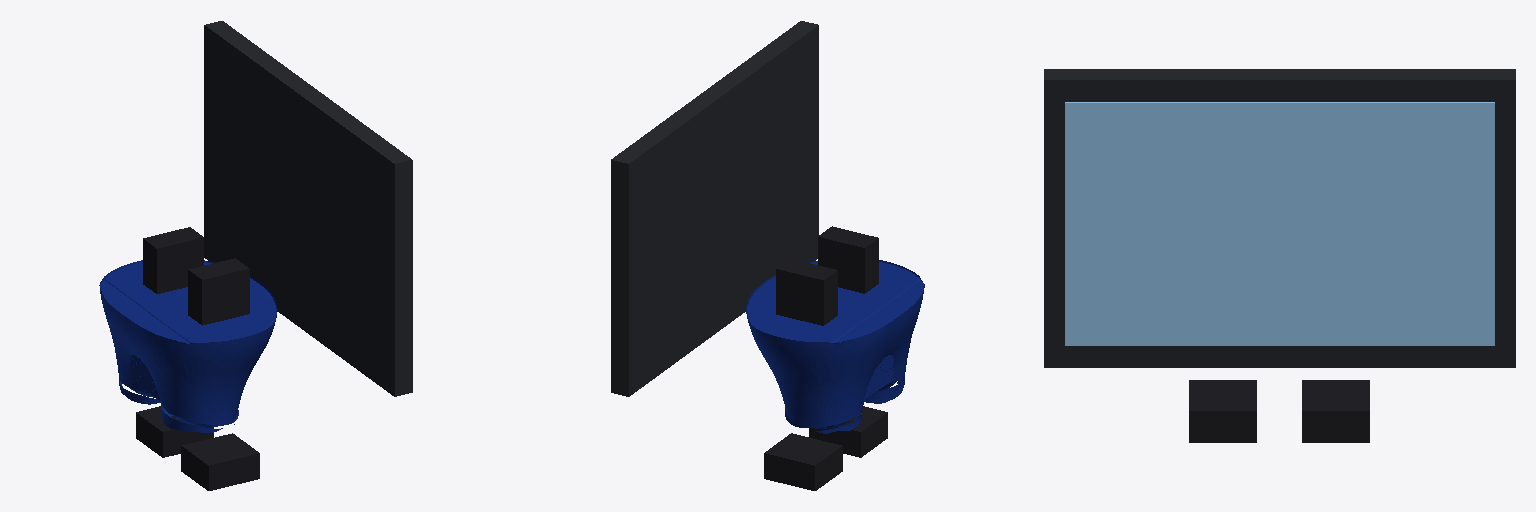
The robot description file, URDF, robot "haetburi":
<?xml version="1.0"?>
<!-- Haetburi biped (v17_scs0009) - generated by tools/build_model.py, do not edit by hand -->
<robot name="haetburi">
  <mujoco>
    <compiler meshdir="." balanceinertia="true" discardvisual="false" strippath="false" fusestatic="false"/>
  </mujoco>
  <material name="display"><color rgba="0.18 0.19 0.21 1"/></material>
  <material name="screen"><color rgba="0.62 0.80 0.95 1"/></material>
  <material name="shell"><color rgba="0.106 0.216 0.541 1"/></material>
  <material name="motor"><color rgba="0.15 0.15 0.17 1"/></material>
  <material name="foot"><color rgba="0.25 0.25 0.28 1"/></material>
  <link name="world"/>
  <joint name="floating_base" type="floating">
    <parent link="world"/><child link="pelvis"/>
    <origin xyz="0 0 0" rpy="0 0 0"/>
  </joint>
  <link name="pelvis">
    <inertial>
      <origin xyz="-0.00855151 1.06189e-05 0.038465" rpy="0 0 0"/>
      <mass value="0.198675"/>
      <inertia ixx="0.000111783" ixy="3.29154e-07" ixz="4.15114e-05" iyy="0.000162064" iyz="3.13942e-07" izz="0.000118874"/>
    </inertial>
    <visual><origin xyz="0 0 0" rpy="0 0 0"/><geometry><mesh filename="meshes/pelvis.stl"/></geometry><material name="shell"/></visual>
    <visual><origin xyz="0.00710197 0.0182963 0.047325" rpy="0 0 0"/><geometry><box size="0.0232 0.0121 0.02525"/></geometry><material name="motor"/></visual>
    <visual><origin xyz="0.00809803 -0.0185221 0.047325" rpy="0 0 0"/><geometry><box size="0.0232 0.0121 0.02525"/></geometry><material name="motor"/></visual>
    <collision><origin xyz="0.0055805 -0.000109329 0.0156145" rpy="0 0 0"/><geometry><box size="0.0669075 0.0888493 0.0468509"/></geometry></collision>
  </link>
  <link name="torso">
    <inertial>
      <origin xyz="0.016319 7.72691e-05 0.0965368" rpy="0 0 0"/>
      <mass value="0.901556"/>
      <inertia ixx="0.00825268" ixy="-2.39545e-05" ixz="0.00150206" iyy="0.00830177" iyz="-2.31104e-05" izz="0.00450975"/>
    </inertial>
    <visual><origin xyz="0 0 0" rpy="0 0 0"/><geometry><mesh filename="meshes/torso.stl"/></geometry><material name="shell"/></visual>
    <visual><origin xyz="0.062786 0 0.0289837" rpy="0 0 0"/><geometry><box size="0.008832 0.161664 0.109286"/></geometry><material name="display"/></visual>
    <visual><origin xyz="0.067202 0 0.0289837" rpy="0 0 0"/><geometry><box size="0.0004 0.147456 0.09216"/></geometry><material name="screen"/></visual>
    <collision><origin xyz="-0.0291512 -1.35704e-06 0.0215066" rpy="0 0 0"/><geometry><box size="0.136832 0.0927821 0.0913706"/></geometry></collision>
    <collision><origin xyz="0.0355968 0.0718681 0.0433374" rpy="0 0 0"/><geometry><sphere radius="0.0519864"/></geometry></collision>
    <collision><origin xyz="0.0358429 -0.0719783 0.0433374" rpy="0 0 0"/><geometry><sphere radius="0.0519364"/></geometry></collision>
    <collision><origin xyz="-0.004468 0.000228497 0.0877353" rpy="0 0 0"/><geometry><sphere radius="0.0891668"/></geometry></collision>
    <collision><origin xyz="-0.00778564 -0.000105052 0.128794" rpy="0 0 0"/><geometry><sphere radius="0.102872"/></geometry></collision>
    <collision><origin xyz="-0.0118553 -0.000173384 0.169861" rpy="0 0 0"/><geometry><sphere radius="0.101681"/></geometry></collision>
    <collision><origin xyz="-0.00930047 0.000732431 0.210925" rpy="0 0 0"/><geometry><sphere radius="0.088415"/></geometry></collision>
    <collision><origin xyz="-0.00550337 0.0057974 0.252014" rpy="0 0 0"/><geometry><sphere radius="0.0630195"/></geometry></collision>
    <collision><origin xyz="-0.0100857 -0.00191617 0.293068" rpy="0 0 0"/><geometry><sphere radius="0.0365721"/></geometry></collision>
    <collision><origin xyz="0.062786 0 0.0289837" rpy="0 0 0"/><geometry><box size="0.008832 0.161664 0.109286"/></geometry></collision>
  </link>
  <link name="leg_l">
    <inertial>
      <origin xyz="-0.000349654 0.00195483 -0.0226553" rpy="0 0 0"/>
      <mass value="0.0177122"/>
      <inertia ixx="4.51192e-06" ixy="-1.04e-08" ixz="2.61545e-08" iyy="3.42662e-06" iyz="2.47674e-09" izz="2.0526e-06"/>
    </inertial>
    <visual><origin xyz="0 0 0" rpy="0 0 0"/><geometry><mesh filename="meshes/leg_l.stl"/></geometry><material name="shell"/></visual>
    <collision><origin xyz="-0.00129767 0.00223143 -0.0184934" rpy="0 0 0"/><geometry><box size="0.0340828 0.0300166 0.00429294"/></geometry></collision>
  </link>
  <link name="hip_l">
    <inertial>
      <origin xyz="0 -0.00169586 0.0166894" rpy="0 0 0"/>
      <mass value="0.0189692"/>
      <inertia ixx="1.30471e-06" ixy="0" ixz="0" iyy="7.60432e-07" iyz="5.41971e-09" izz="8.66384e-07"/>
    </inertial>
    <visual><origin xyz="0 -0.002 0.0171" rpy="0 0 0"/><geometry><box size="0.0121 0.02525 0.0232"/></geometry><material name="motor"/></visual>
  </link>
  <link name="foot_l">
    <inertial>
      <origin xyz="0.000411766 0.00389255 -0.00232073" rpy="0 0 0"/>
      <mass value="0.0454368"/>
      <inertia ixx="5.1883e-06" ixy="-2.3182e-07" ixz="-8.67415e-08" iyy="7.0546e-06" iyz="-5.18059e-07" izz="8.13425e-06"/>
    </inertial>
    <visual><origin xyz="0 0 0" rpy="0 0 0"/><geometry><mesh filename="meshes/foot_l.stl"/></geometry><material name="shell"/></visual>
    <visual><origin xyz="0 0.0056 3.42901e-19" rpy="0 0 0"/><geometry><box size="0.02525 0.0232 0.0121"/></geometry><material name="motor"/></visual>
    <collision><origin xyz="0 0 0" rpy="0 0 0"/><geometry><mesh filename="meshes/foot_l.stl"/></geometry></collision>
  </link>
  <link name="leg_r">
    <inertial>
      <origin xyz="-0.000624395 -0.00245492 -0.0233238" rpy="0 0 0"/>
      <mass value="0.0180763"/>
      <inertia ixx="4.65929e-06" ixy="9.56736e-09" ixz="5.94635e-08" iyy="3.6253e-06" iyz="-3.05178e-09" izz="2.18538e-06"/>
    </inertial>
    <visual><origin xyz="0 0 0" rpy="0 0 0"/><geometry><mesh filename="meshes/leg_r.stl"/></geometry><material name="shell"/></visual>
    <collision><origin xyz="-0.00247294 -0.00267163 -0.0180929" rpy="0 0 0"/><geometry><box size="0.0342271 0.030898 0.0068596"/></geometry></collision>
  </link>
  <link name="hip_r">
    <inertial>
      <origin xyz="0 0.00211983 0.0175373" rpy="0 0 0"/>
      <mass value="0.0189692"/>
      <inertia ixx="1.3134e-06" ixy="0" ixz="0" iyy="7.66855e-07" iyz="-9.28376e-09" izz="8.68643e-07"/>
    </inertial>
    <visual><origin xyz="0 0.0025 0.0181" rpy="0 0 0"/><geometry><box size="0.0121 0.02525 0.0232"/></geometry><material name="motor"/></visual>
  </link>
  <link name="foot_r">
    <inertial>
      <origin xyz="0.000349027 -0.0038772 -0.00234477" rpy="0 0 0"/>
      <mass value="0.0453682"/>
      <inertia ixx="5.15499e-06" ixy="2.36972e-07" ixz="-6.72789e-08" iyy="7.01847e-06" iyz="5.15277e-07" izz="8.10368e-06"/>
    </inertial>
    <visual><origin xyz="0 0 0" rpy="0 0 0"/><geometry><mesh filename="meshes/foot_r.stl"/></geometry><material name="shell"/></visual>
    <visual><origin xyz="0 -0.0056 3.42901e-19" rpy="0 0 0"/><geometry><box size="0.02525 0.0232 0.0121"/></geometry><material name="motor"/></visual>
    <collision><origin xyz="0 0 0" rpy="0 0 0"/><geometry><mesh filename="meshes/foot_r.stl"/></geometry></collision>
  </link>
  <joint name="waist_fixed" type="fixed">
    <parent link="pelvis"/><child link="torso"/>
    <origin xyz="0 0 0.03904" rpy="0 0 0"/>
  </joint>
  <joint name="hip_yaw_l" type="revolute">
    <parent link="pelvis"/><child link="hip_l"/>
    <origin xyz="0.00150197 0.0182963 0" rpy="0 0 0"/>
    <axis xyz="0 0 1"/>
    <limit lower="-0.314159" upper="0.314159" effort="0.226" velocity="10.5"/>
    <dynamics damping="0.016142857142857146" friction="0.006457142857142858"/>
  </joint>
  <joint name="hip_pitch_l" type="revolute">
    <parent link="hip_l"/><child link="leg_l"/>
    <origin xyz="0 -0.002 0.0115" rpy="0 0 0"/>
    <axis xyz="0 1 0"/>
    <limit lower="-0.785398" upper="0.383972" effort="0.226" velocity="10.5"/>
    <dynamics damping="0.016142857142857146" friction="0.006457142857142858"/>
  </joint>
  <joint name="hip_yaw_r" type="revolute">
    <parent link="pelvis"/><child link="hip_r"/>
    <origin xyz="0.00249803 -0.0185221 0" rpy="0 0 0"/>
    <axis xyz="0 0 1"/>
    <limit lower="-0.314159" upper="0.314159" effort="0.226" velocity="10.5"/>
    <dynamics damping="0.016142857142857146" friction="0.006457142857142858"/>
  </joint>
  <joint name="hip_pitch_r" type="revolute">
    <parent link="hip_r"/><child link="leg_r"/>
    <origin xyz="0 0.0025 0.0125" rpy="0 0 0"/>
    <axis xyz="0 1 0"/>
    <limit lower="-0.785398" upper="0.383972" effort="0.226" velocity="10.5"/>
    <dynamics damping="0.016142857142857146" friction="0.006457142857142858"/>
  </joint>
  <joint name="ankle_roll_l" type="revolute">
    <parent link="leg_l"/><child link="foot_l"/>
    <origin xyz="0.00686715 -0.00260301 -0.04187" rpy="0 0 0"/>
    <axis xyz="1 0 0"/>
    <limit lower="-0.261799" upper="0.261799" effort="0.226" velocity="10.5"/>
    <dynamics damping="0.016142857142857146" friction="0.006457142857142858"/>
  </joint>
  <joint name="ankle_roll_r" type="revolute">
    <parent link="leg_r"/><child link="foot_r"/>
    <origin xyz="0.00595671 0.00205261 -0.04287" rpy="0 0 0"/>
    <axis xyz="1 0 0"/>
    <limit lower="-0.261799" upper="0.261799" effort="0.226" velocity="10.5"/>
    <dynamics damping="0.016142857142857146" friction="0.006457142857142858"/>
  </joint>
</robot>

--- Facts derived from the render (not from the file) ---
3 views of the same robot in one strip: view 1: azimuth 30°, elevation 25°; view 2: azimuth 150°, elevation 25°; view 3: azimuth 270°, elevation 25° (orthographic).
Model haetburi with 9 links and 8 joints (6 revolute, 1 fixed, 1 floating), rooted at world, posed all joints at 0.
Links seen in each view (by area): view 1: torso, pelvis, foot_r, foot_l; view 2: torso, pelvis, foot_l, foot_r; view 3: torso, foot_l, foot_r.
Link boxes in pixels (x1=…): torso: x1=204, y1=21, x2=412, y2=396; pelvis: x1=99, y1=227, x2=277, y2=426; foot_r: x1=181, y1=433, x2=259, y2=490; foot_l: x1=136, y1=406, x2=213, y2=457; torso: x1=611, y1=21, x2=818, y2=396; pelvis: x1=746, y1=226, x2=924, y2=428; foot_l: x1=764, y1=433, x2=842, y2=490; foot_r: x1=809, y1=406, x2=887, y2=457; torso: x1=1044, y1=69, x2=1515, y2=367; foot_l: x1=1302, y1=380, x2=1369, y2=442; foot_r: x1=1189, y1=380, x2=1256, y2=442.
Bounding box of the posed robot: 0.0953 × 0.1617 × 0.1591 m (x, y, z).
3 mesh visuals loaded from 6 distinct referenced files (3 binary STL); not drawn: 3 (reference not matched to a file when rendering).
